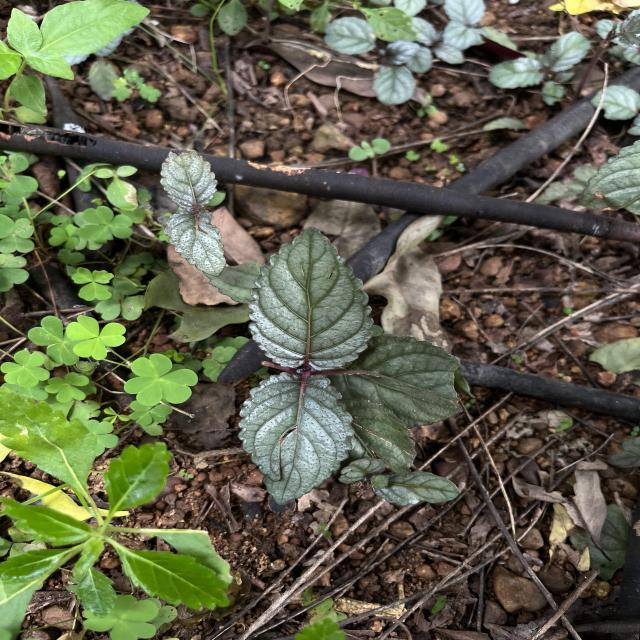Hemigraphis colorata: (244, 225, 376, 372), (235, 369, 358, 507), (326, 332, 466, 430), (156, 208, 230, 278), (158, 146, 219, 208)
